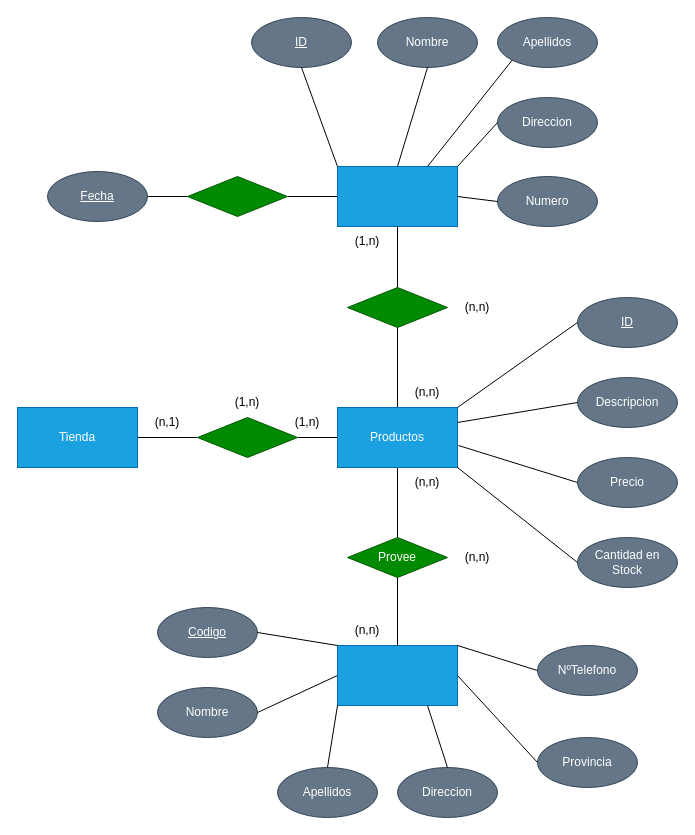
Image size: 695x835. Some labels were removed from this diagram. The box of each missing label's shape, as (x1, y1, x2, y2) in pixels:
Cliente: (336, 166, 458, 226)
Compra: (346, 286, 448, 328)
Proveedor: (336, 644, 458, 706)
Registra: (186, 176, 288, 216)
Tiene: (196, 416, 298, 458)
